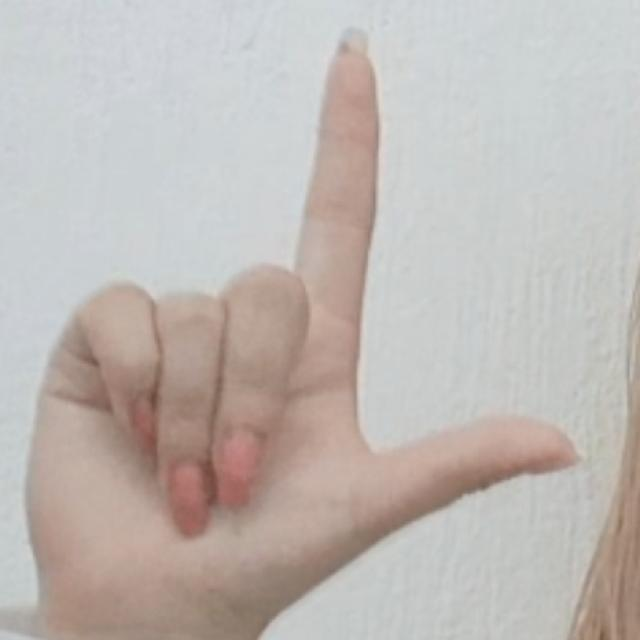LL: (20, 13, 589, 614)
